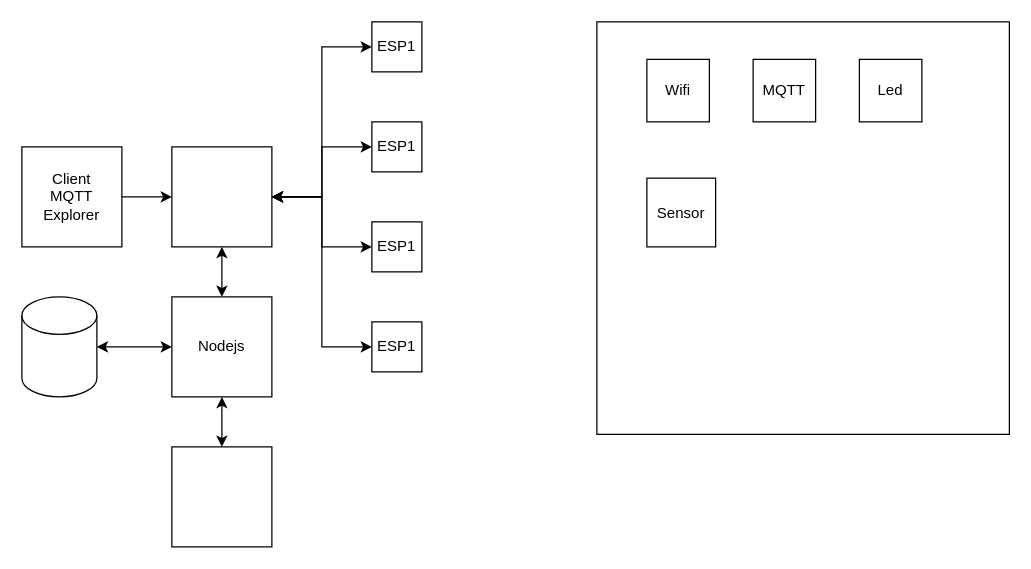
This 1031x569 diagram has some shape labels left out. The box of each missing label's shape, as (x1, y1, x2, y2) in pixels:
Broker MQTT (mosquito): (171, 146, 272, 247)
Web: (171, 446, 272, 547)
